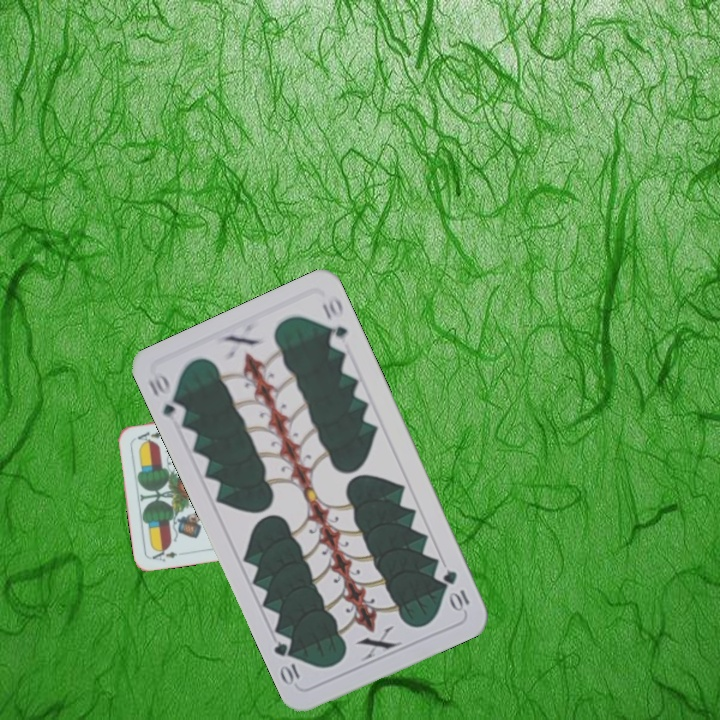EA: (148, 544, 180, 564)
G10: (144, 370, 188, 427), (438, 566, 472, 615)
